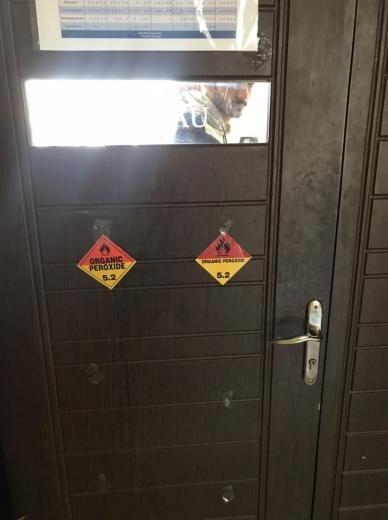organic-peroxide: (76, 236, 136, 290), (195, 233, 253, 286)
